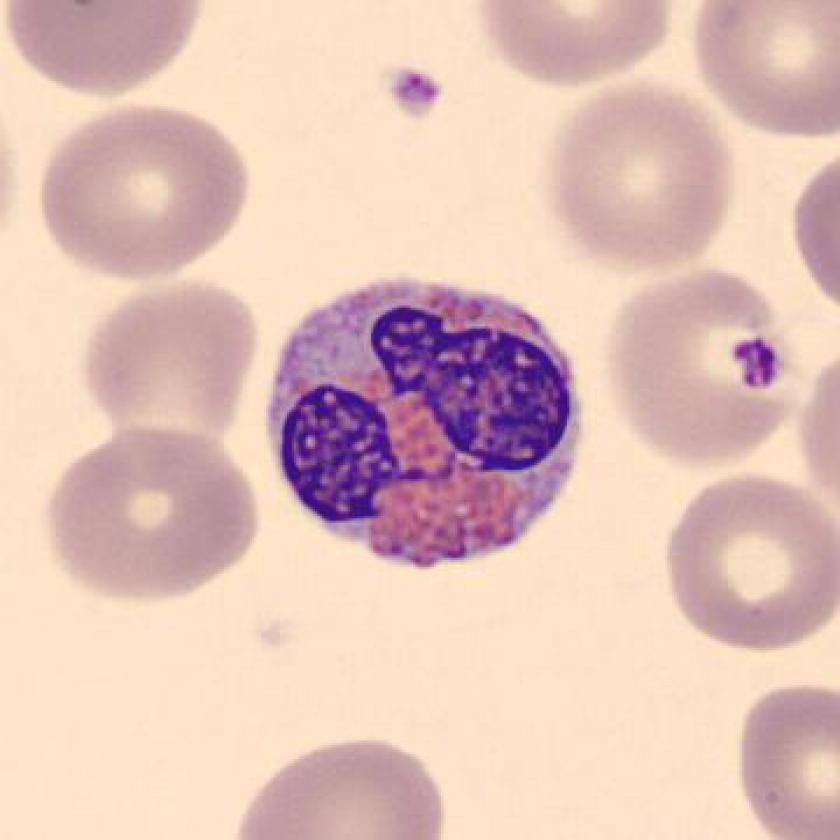eosinophil: (256, 267, 592, 580)
